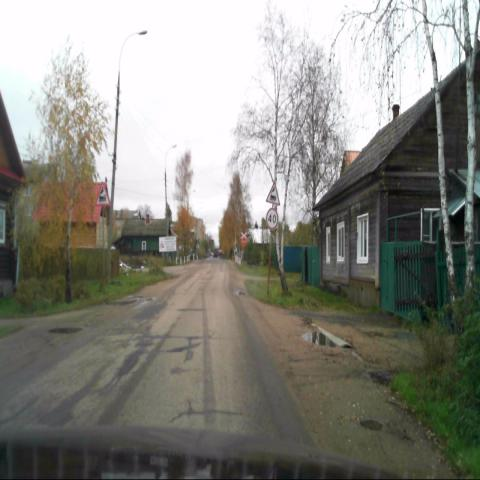1_2: (266, 182, 280, 206), (96, 182, 110, 205)
